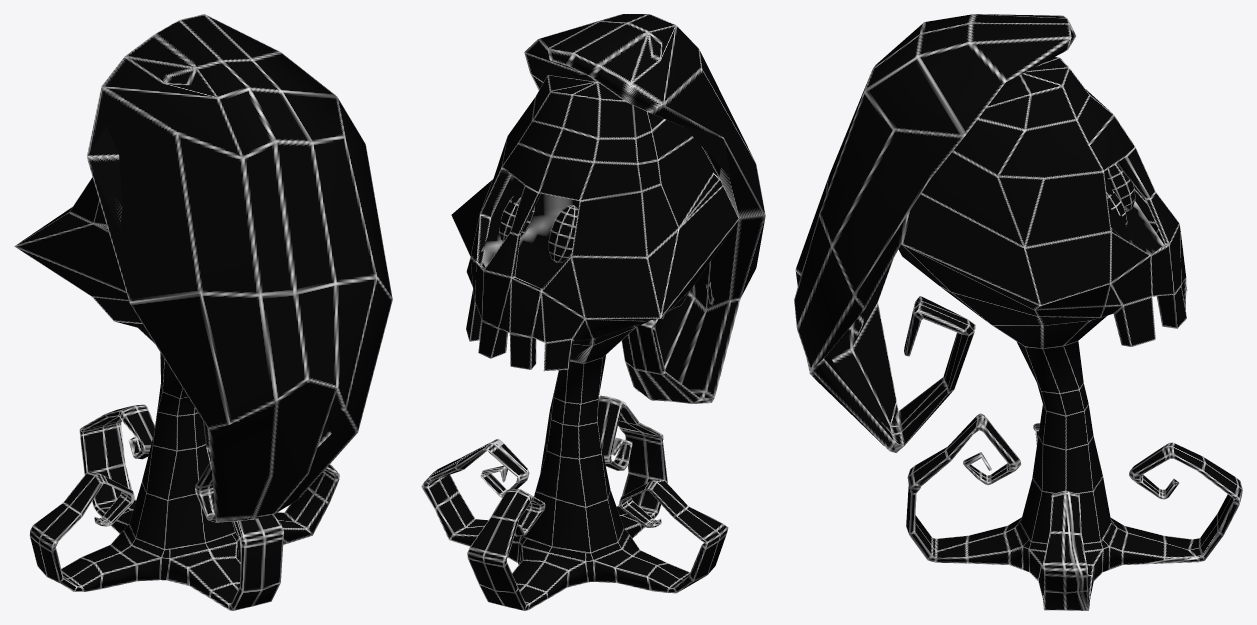
Rendered from Skull.fbx.
3 renders of one model, left to right at view 1: azimuth 30°, elevation 25°; view 2: azimuth 150°, elevation 25°; view 3: azimuth 270°, elevation 25°, orthographic. The views are drawn at different scales.
Visible parts, largest first — view 1: pSphere6; view 2: pSphere6; view 3: pSphere6.
Boxes of the visible parts, x1,y1,x2,y2 form: pSphere6: [14, 14, 392, 610]; pSphere6: [421, 14, 765, 610]; pSphere6: [794, 14, 1242, 610].
Bounding box in the file's own units: 3.65 × 6.28 × 4.81.
